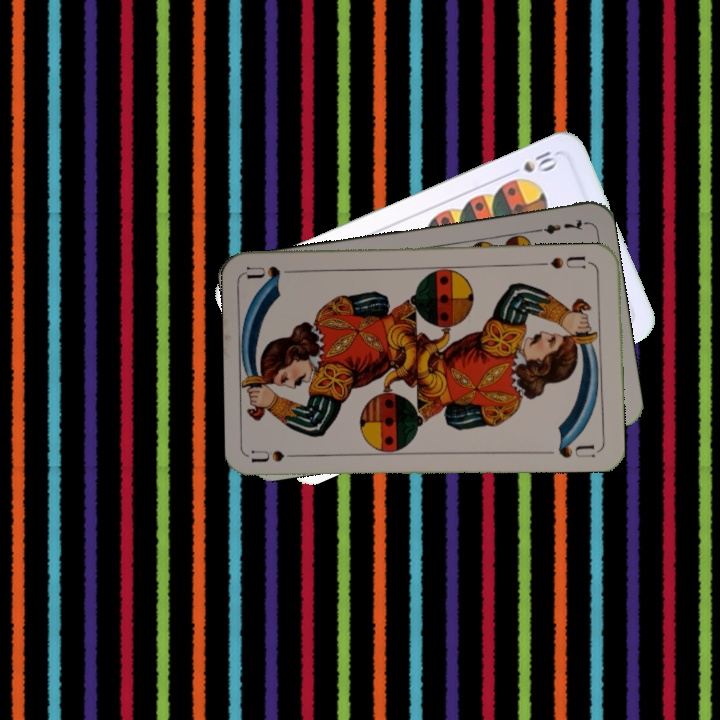E7: (529, 215, 588, 237)
S10: (503, 147, 561, 178)
SU: (249, 446, 309, 465), (546, 251, 588, 272)
